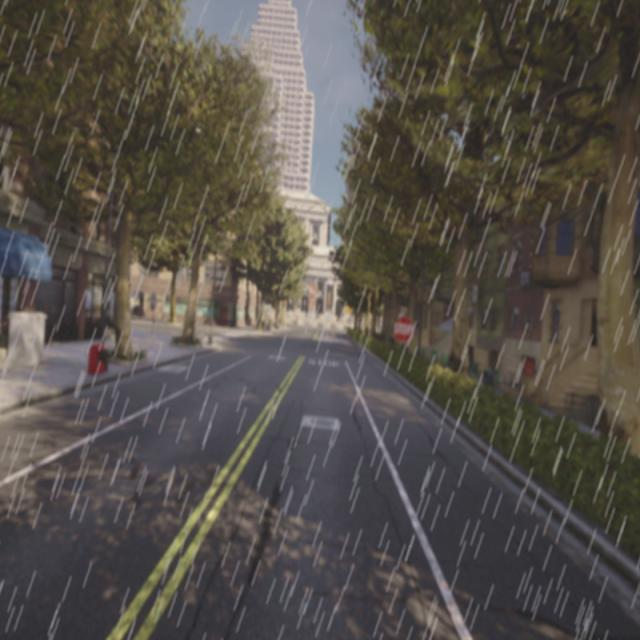stop sign: (390, 310, 416, 348)
